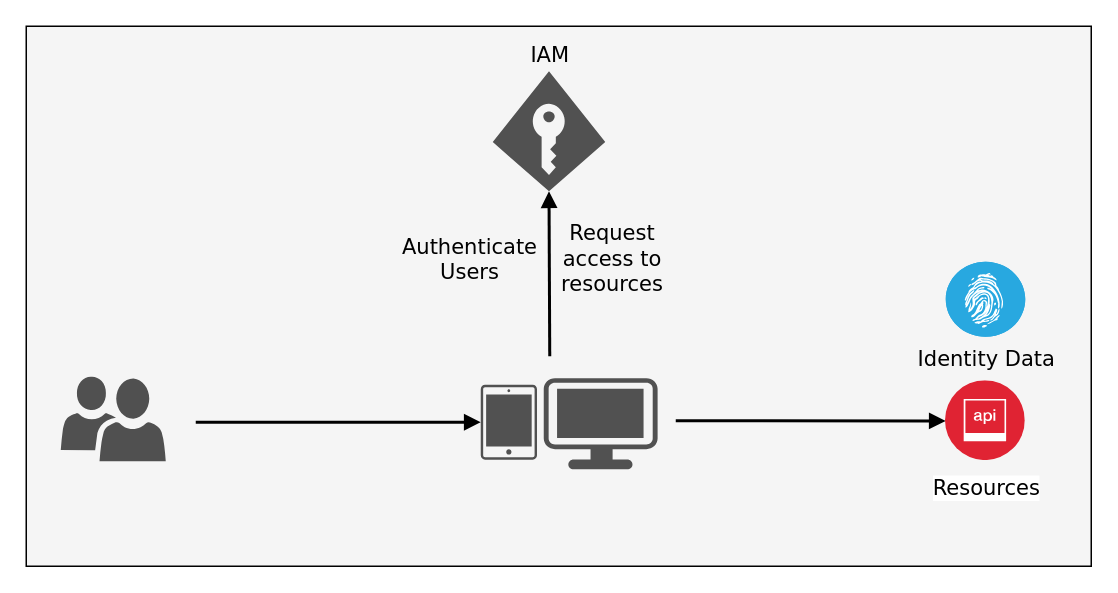
Some shapes in this 1118 by 593 pixel diagram are drawn without their labels. The shapes that lost their labels are listed below. From the top down, each one's centre as x and y in pixels, then its label:
At [112,418]: "Users".
At [600,423]: "Clients".
